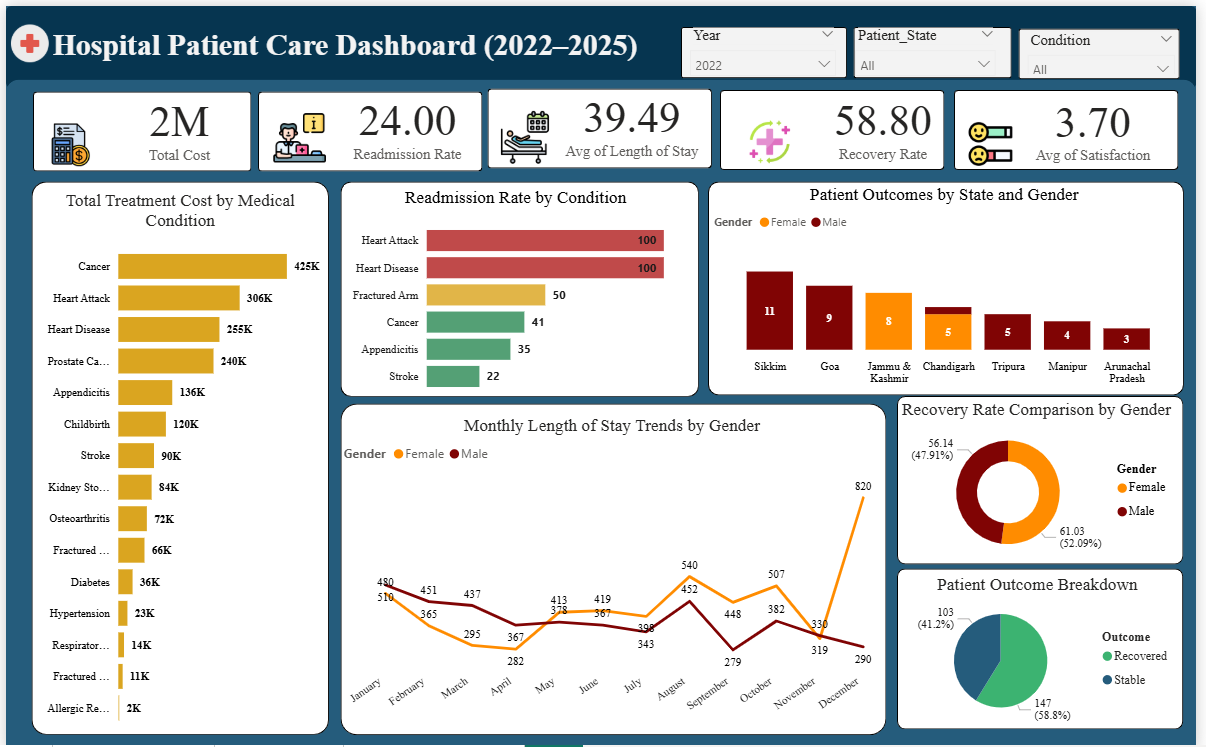

Layout of this report page (visuals, bound fields, positions):
{"tool":"powerbi","page":{"name":"Page 1","canvas":[1280,800],"ordinal":0},"visuals":[{"type":"shape","box":[0,0,1280,88.3],"z":0},{"type":"shape","box":[911.9,23.2,170,55.1],"z":0,"group":"g13"},{"type":"shape","box":[1088.9,25.6,173.3,54.4],"z":0,"group":"g12"},{"type":"group","id":"g1","title":"Group 9","box":[488.2,70.4,290.2,107.8],"z":0,"group":"g14"},{"type":"slicer","fields":{"Values":["Hospital Patient.Patient_State"]},"box":[903.3,18.3,170.8,58.4],"z":1000,"group":"g13"},{"type":"slicer","fields":{"Values":["Hospital Patient.Condition"]},"box":[1088.3,23.3,178,50.5],"z":1000,"group":"g12"},{"type":"group","id":"g2","title":"Group 10","box":[762.6,73.5,262.2,107.8],"z":1000,"group":"g14"},{"type":"shape","box":[0,79.7,1279.7,103.1],"z":1000},{"type":"textbox","box":[45,18.3,945,75],"z":2000},{"type":"shape","box":[725,23,178.3,55],"z":2000,"group":"g15"},{"type":"group","id":"g3","title":"Group 11","box":[993.4,75,267.5,107.8],"z":2000,"group":"g14"},{"type":"shape","box":[28.5,188.3,319.8,595],"z":2500,"group":"g11"},{"type":"shape","box":[957.7,420,307.9,181.2],"z":2500,"group":"g7"},{"type":"group","id":"g4","title":"Group 12","box":[10.9,68.8,258.7,118.8],"z":3000,"group":"g14"},{"type":"group","id":"g5","title":"Group 1","box":[955,605,310,173.3],"z":3000},{"type":"shape","box":[359.4,188.3,385.3,231.6],"z":3500,"group":"g9"},{"type":"shape","box":[359.8,426.7,587,356.7],"z":3500,"group":"g10"},{"type":"group","id":"g6","title":"Group 13","box":[257.4,73.5,257,107.8],"z":4000,"group":"g14"},{"type":"barChart","title":"Readmission Rate  by Condition","fields":{"Category":["Hospital Patient.Condition"],"Y":["Hospital Patient.Readmission Rate by Condition (%)"]},"box":[358.3,195.4,380,231.6],"z":4000,"group":"g9"},{"type":"barChart","title":"Total Treatment Cost by Medical Condition","fields":{"Category":["Hospital Patient.Condition"],"Y":["Sum(Hospital Patient.Total_Cost)"]},"box":[27.9,197.7,320,588.3],"z":4000,"group":"g11"},{"type":"group","id":"g7","title":"Group 2","box":[955,420,306.7,183.3],"z":4000},{"type":"group","id":"g8","title":"Group 3","box":[755,188.3,511.7,230],"z":5000},{"type":"donutChart","title":"Recovery Rate Comparison by Gender","fields":{"Category":["Hospital Patient.Gender"],"Y":["Hospital Patient.Recovery Rate by Gender (%)"]},"box":[955,423.9,306.4,179.4],"z":5000,"group":"g7"},{"type":"lineChart","title":"Monthly Length of Stay Trends by Gender","fields":{"Series":["Hospital Patient.Gender"],"Category":["Hospital Patient.Admission_Date.Variation.Date Hierarchy.Month"],"Y":["Sum(Hospital Patient.Length_of_Stay)"]},"box":[358.3,439.4,587,337.6],"z":5000,"group":"g10"},{"type":"slicer","fields":{"Values":["Hospital Patient.Admission_Date.Variation.Date Hierarchy.Year"]},"box":[725,18.3,176.7,65],"z":6000,"group":"g15"},{"type":"group","id":"g9","title":"Group 4","box":[358.3,188.3,386.7,238.3],"z":6000},{"type":"group","id":"g10","title":"Group 5","box":[358.3,426.7,586.7,356.7],"z":7000},{"type":"group","id":"g11","title":"Group 6","box":[27.9,188.3,320.4,597.8],"z":8000},{"type":"group","id":"g12","title":"Group 7","box":[1088.3,23.3,178.3,56.7],"z":9000},{"type":"group","id":"g13","title":"Group 8","box":[903.3,18.3,178.3,60],"z":10000},{"type":"group","id":"g14","title":"Group 14","box":[10.9,68.8,1250,118.8],"z":11000},{"type":"shape","box":[957.6,605,307.8,172.9],"z":11500,"group":"g5"},{"type":"group","id":"g15","title":"Group 15","box":[725,18.3,178.3,65],"z":12000},{"type":"shape","box":[28.4,90.7,235,85.9],"z":12000,"group":"g4"},{"type":"pieChart","title":"Patient Outcome Breakdown","fields":{"Category":["Hospital Patient.Outcome"],"Y":["CountNonNull(Hospital Patient.Patient_ID)"]},"box":[955,610.9,308.6,164.2],"z":12000,"group":"g5"},{"type":"image","box":[0,14,50.7,50.7],"z":13000},{"type":"shape","box":[755,188.3,511.7,230],"z":15000,"group":"g8"},{"type":"shape","box":[767.8,89.1,241.3,85.9],"z":16000,"group":"g2"},{"type":"columnChart","title":"Patient Outcomes by State and Gender","fields":{"Category":["Hospital Patient.Patient_State"],"Series":["Hospital Patient.Gender"],"Y":["CountNonNull(Hospital Patient.Outcome)"]},"box":[756.1,192.2,505,223.3],"z":16000,"group":"g8"},{"type":"card","fields":{"Values":["Sum(Hospital Patient.Total_Cost)"]},"box":[103.6,68.8,166.1,118.8],"z":18000,"group":"g4"},{"type":"shape","box":[269.6,91.1,241.3,85.9],"z":19000,"group":"g6"},{"type":"shape","box":[517.9,88.4,241.3,85.9],"z":20000,"group":"g1"},{"type":"card","fields":{"Values":["Hospital Patient.Readmission Rate"]},"box":[348.3,73.5,166.1,107.8],"z":21000,"group":"g6"},{"type":"shape","box":[1019.6,90.2,241.3,85.9],"z":22000,"group":"g3"},{"type":"card","fields":{"Values":["Avg(Hospital Patient.Length_of_Stay)"]},"box":[565.1,70.4,213.3,107.8],"z":23000,"group":"g1"},{"type":"card","fields":{"Values":["Avg(Hospital Patient.Satisfaction)"]},"box":[1075.6,75,185.3,107.8],"z":24000,"group":"g3"},{"type":"image","box":[10.9,120.4,117.1,56.2],"z":25000,"group":"g4"},{"type":"card","fields":{"Values":["Hospital Patient.Recovery Rate"]},"box":[858.8,73.5,166.1,107.8],"z":26000,"group":"g2"},{"type":"image","box":[762.6,117.3,117.1,56.2],"z":27000,"group":"g2"},{"type":"image","box":[488.2,106.3,138.1,68.8],"z":28000,"group":"g1"},{"type":"image","box":[993.4,118.8,129.4,57.8],"z":29000,"group":"g3"},{"type":"image","box":[257.4,107.9,115.4,67.2],"z":30000,"group":"g6"}]}

Visuals, with their boxes in screenshot pixels (x1, y1, x2, y2), scaled from the page's 1280x800 canvas onto the 1206x747 screenshot:
shape: l=0, t=0, r=1205, b=82
shape: l=859, t=22, r=1019, b=73
shape: l=1026, t=24, r=1189, b=75
"Group 9" group: l=460, t=66, r=733, b=166
slicer - Hospital Patient.Patient_State: l=851, t=17, r=1012, b=72
slicer - Hospital Patient.Condition: l=1025, t=22, r=1193, b=69
"Group 10" group: l=719, t=69, r=966, b=169
shape: l=0, t=74, r=1205, b=171
textbox: l=42, t=17, r=933, b=87
shape: l=683, t=21, r=851, b=73
"Group 11" group: l=936, t=70, r=1188, b=171
shape: l=27, t=176, r=328, b=731
shape: l=902, t=392, r=1192, b=561
"Group 12" group: l=10, t=64, r=254, b=175
"Group 1" group: l=900, t=565, r=1192, b=727
shape: l=339, t=176, r=702, b=392
shape: l=339, t=398, r=892, b=731
"Group 13" group: l=243, t=69, r=485, b=169
"Readmission Rate  by Condition" barChart: l=338, t=182, r=696, b=399
"Total Treatment Cost by Medical Condition" barChart: l=26, t=185, r=328, b=734
"Group 2" group: l=900, t=392, r=1189, b=563
"Group 3" group: l=711, t=176, r=1193, b=391
"Recovery Rate Comparison by Gender" donutChart: l=900, t=396, r=1188, b=563
"Monthly Length of Stay Trends by Gender" lineChart: l=338, t=410, r=891, b=726
slicer - Hospital Patient.Admission_Date.Variation.Date Hierarchy.Year: l=683, t=17, r=850, b=78
"Group 4" group: l=338, t=176, r=702, b=398
"Group 5" group: l=338, t=398, r=890, b=731
"Group 6" group: l=26, t=176, r=328, b=734
"Group 7" group: l=1025, t=22, r=1193, b=75
"Group 8" group: l=851, t=17, r=1019, b=73
"Group 14" group: l=10, t=64, r=1188, b=175
shape: l=902, t=565, r=1192, b=726
"Group 15" group: l=683, t=17, r=851, b=78
shape: l=27, t=85, r=248, b=165
"Patient Outcome Breakdown" pieChart: l=900, t=570, r=1191, b=724
image: l=0, t=13, r=48, b=60
shape: l=711, t=176, r=1193, b=391
shape: l=723, t=83, r=951, b=163
"Patient Outcomes by State and Gender" columnChart: l=712, t=179, r=1188, b=388
card - Sum(Hospital Patient.Total_Cost): l=98, t=64, r=254, b=175
shape: l=254, t=85, r=481, b=165
shape: l=488, t=83, r=715, b=163
card - Hospital Patient.Readmission Rate: l=328, t=69, r=485, b=169
shape: l=961, t=84, r=1188, b=164
card - Avg(Hospital Patient.Length_of_Stay): l=532, t=66, r=733, b=166
card - Avg(Hospital Patient.Satisfaction): l=1013, t=70, r=1188, b=171
image: l=10, t=112, r=121, b=165
card - Hospital Patient.Recovery Rate: l=809, t=69, r=966, b=169
image: l=719, t=110, r=829, b=162
image: l=460, t=99, r=590, b=163
image: l=936, t=111, r=1058, b=165
image: l=243, t=101, r=351, b=163
